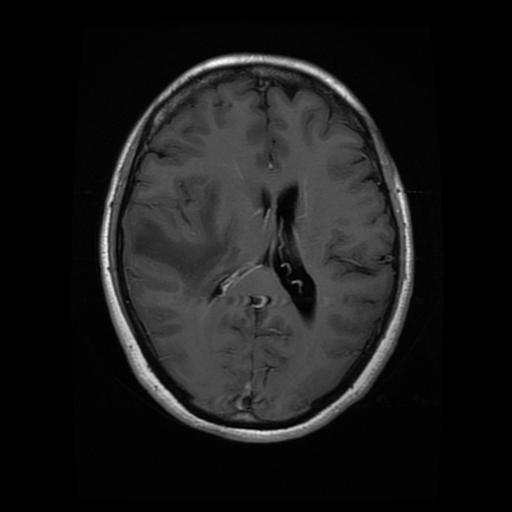Gliomia_tumour: (132, 182, 265, 297)
